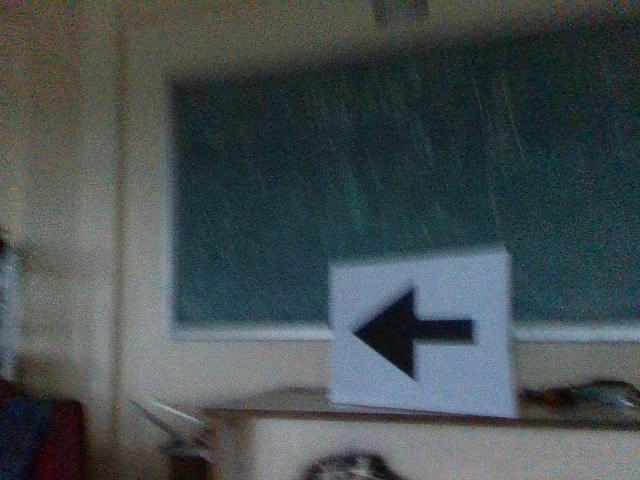Left: (344, 279, 483, 383)
